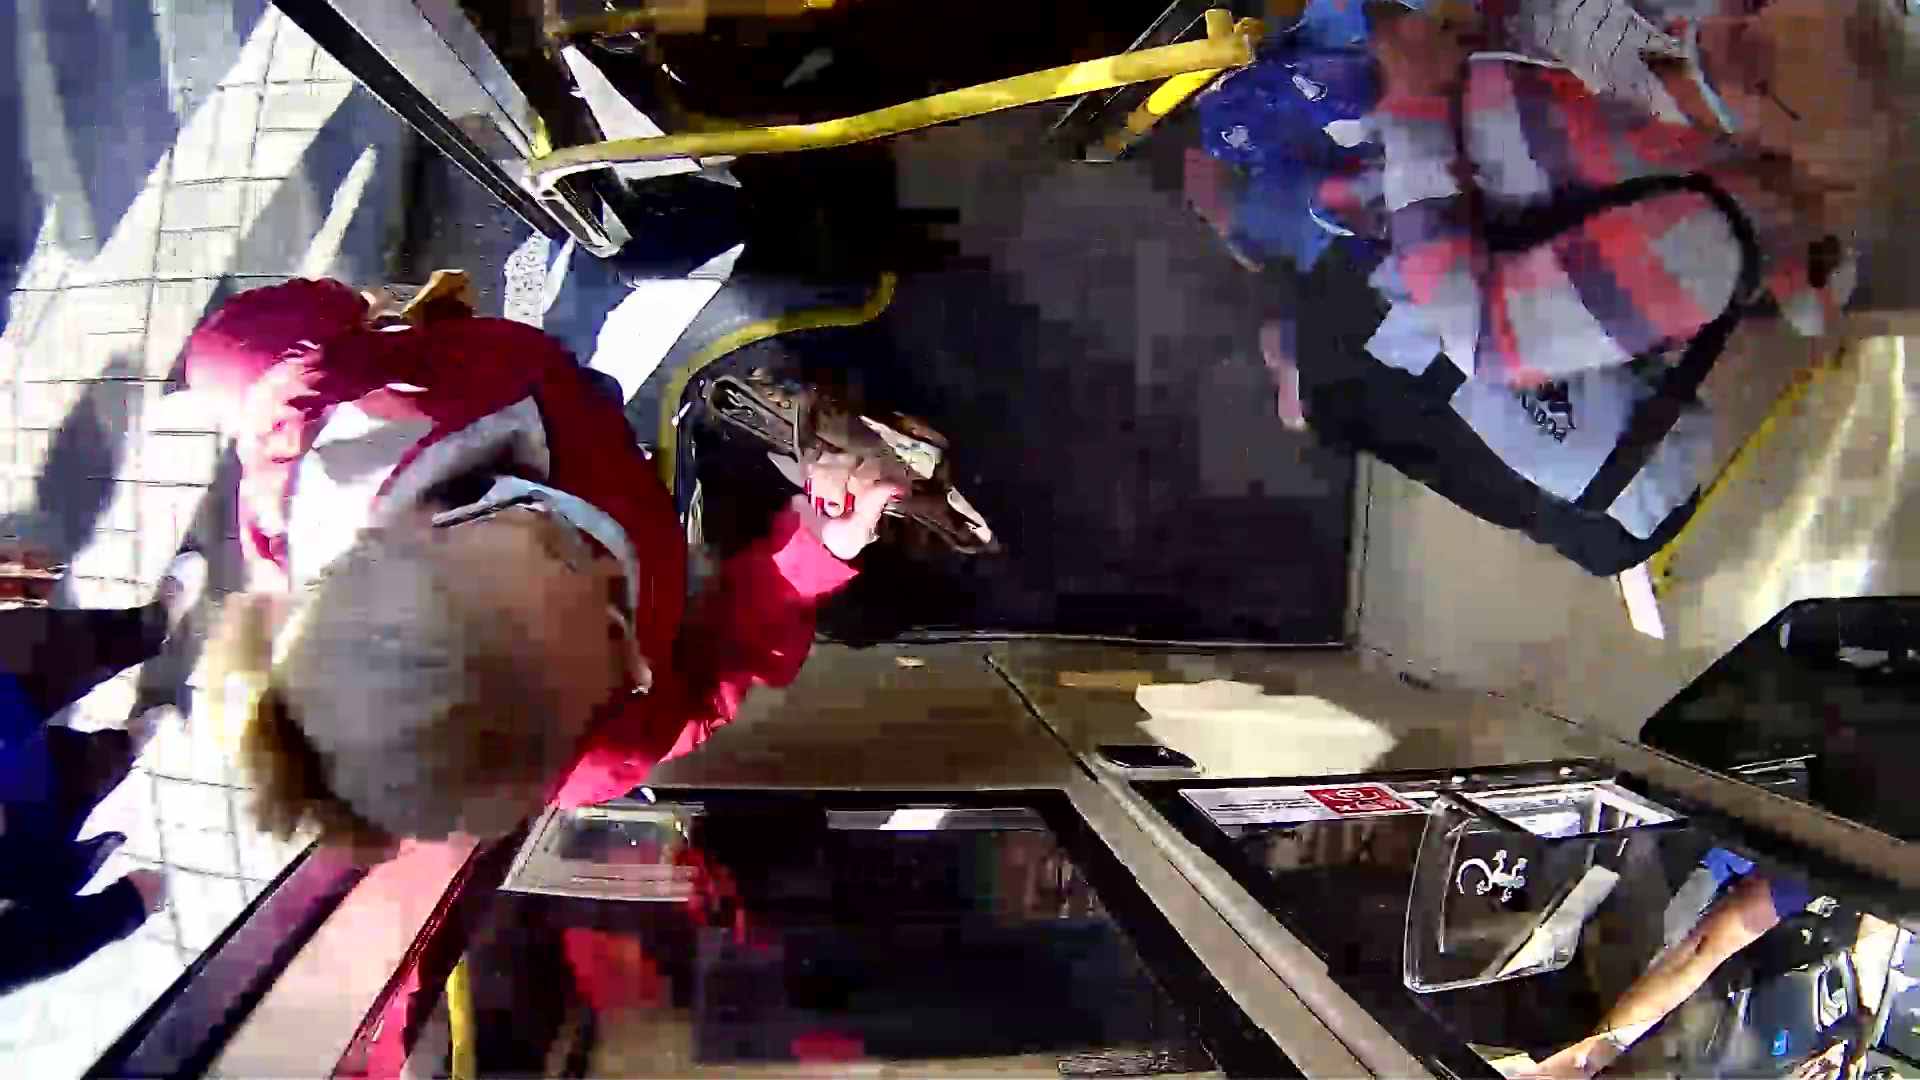person: (156, 285, 1037, 833)
